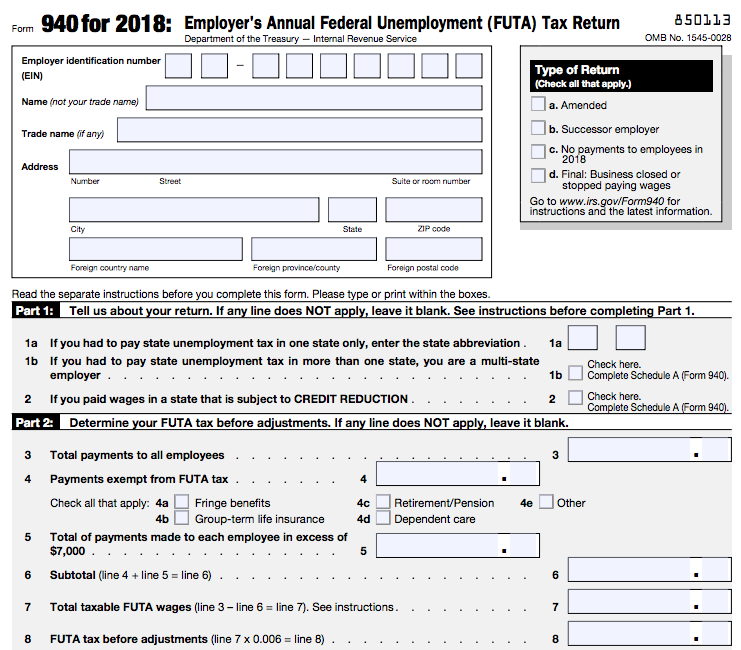checkbox: (172, 508, 191, 527), (529, 94, 547, 112), (529, 118, 547, 136), (529, 142, 547, 160), (529, 166, 547, 184), (566, 363, 584, 381), (566, 388, 584, 406), (172, 491, 190, 509), (374, 492, 392, 510), (537, 492, 555, 510), (374, 508, 392, 526)
textbox: (67, 146, 485, 175), (114, 114, 485, 144), (143, 82, 486, 113), (67, 194, 322, 223), (67, 234, 245, 262), (566, 435, 734, 464), (374, 459, 542, 488), (374, 530, 542, 559), (565, 554, 733, 583), (566, 586, 734, 615), (566, 618, 734, 647), (249, 234, 380, 262), (383, 194, 485, 224), (384, 233, 486, 263), (326, 194, 379, 223), (566, 323, 600, 351), (614, 323, 648, 351), (163, 51, 194, 80), (199, 51, 230, 80), (250, 51, 281, 80), (284, 51, 315, 80), (318, 51, 349, 80), (352, 51, 383, 80), (386, 51, 417, 80), (419, 51, 450, 80), (453, 51, 484, 80)
